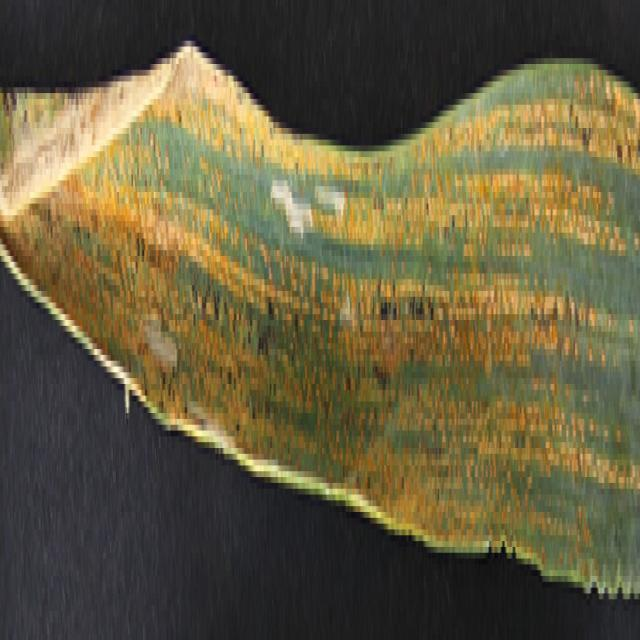leaf rust: (26, 93, 640, 564)
